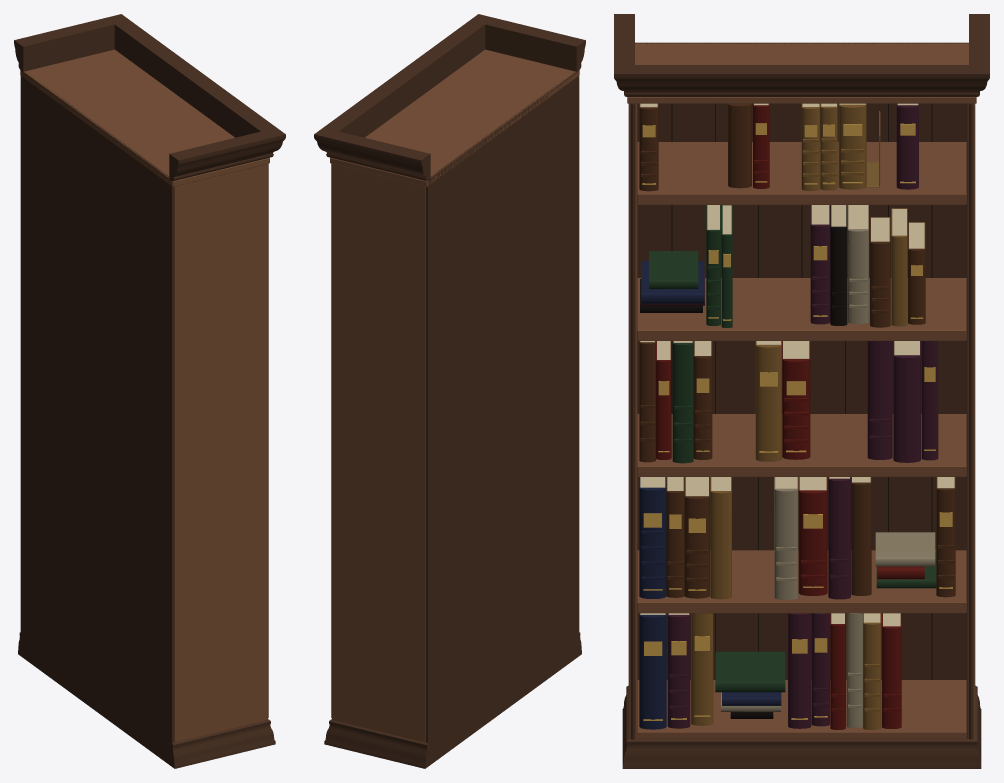
File: bookcase@3.glb
3 views of the same model, side by side, from view 1: azimuth 30°, elevation 25°; view 2: azimuth 150°, elevation 25°; view 3: azimuth 270°, elevation 25° (orthographic). The views are drawn at different scales.
Parts seen in each view (by area): view 1: rueckwand, korpus, profile; view 2: rueckwand, korpus, profile; view 3: korpus, rueckwand, profile, buecher7, buecher1, buecher5, buecher0, buecher2, buecher6, buchschnitt, buecher3, goldpraegung (+2 smaller).
Part boxes in pixels (box(x1,y1,x2,y2)): rueckwand: box(20, 70, 174, 763); korpus: box(20, 49, 269, 742); profile: box(14, 14, 285, 768); rueckwand: box(425, 70, 579, 763); korpus: box(330, 49, 579, 742); profile: box(314, 14, 585, 768); korpus: box(627, 43, 976, 739); rueckwand: box(635, 42, 968, 679); profile: box(614, 14, 989, 768); buecher7: box(641, 103, 938, 728); buecher1: box(639, 103, 955, 598); buecher5: box(691, 103, 907, 729); buecher0: box(656, 103, 924, 729); buecher2: box(649, 205, 936, 692); buecher6: box(721, 205, 935, 727); buchschnitt: box(640, 103, 954, 626); buecher3: box(639, 261, 781, 729); goldpraegung: box(642, 123, 952, 720).
Size of the model in its own units: 0.368 by 2 by 0.976.
